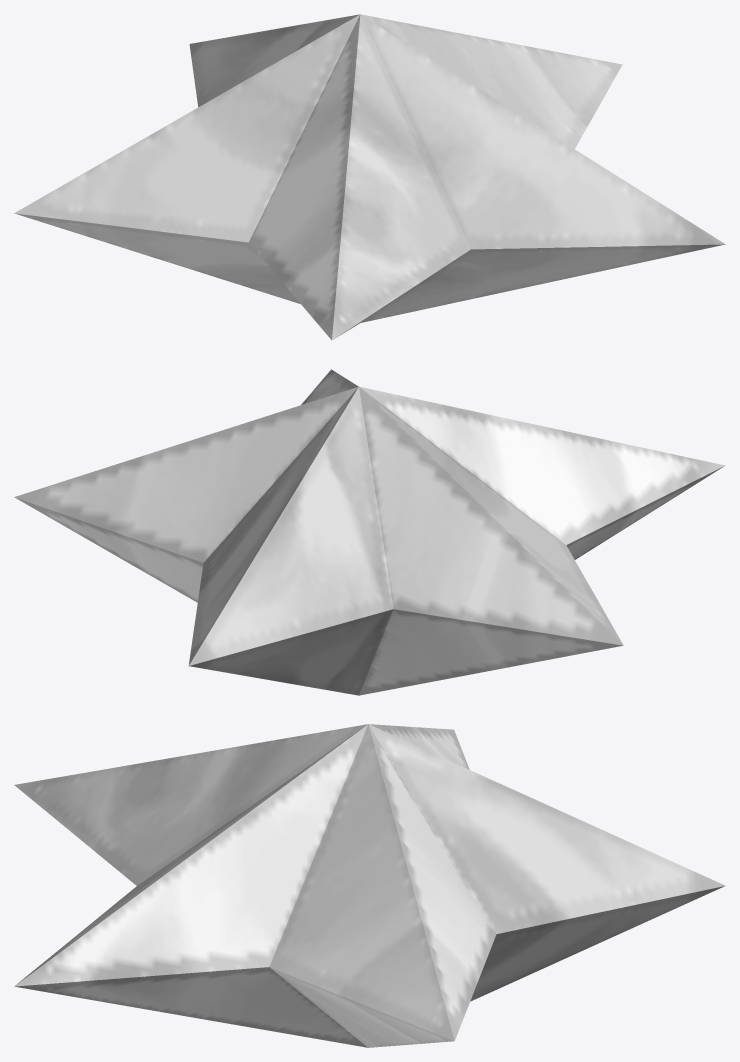
Rendered from Star present.dae.
The picture shows the model from 3 angles, top to bottom: view 1: azimuth 30°, elevation 25°; view 2: azimuth 150°, elevation 25°; view 3: azimuth 270°, elevation 25°; orthographic projection. The views are drawn at different scales.
Visible parts, largest first — view 1: Plane; view 2: Plane; view 3: Plane.
Part boxes in pixels (x1,y1,x2,y2): Plane: (14,14,725,340); Plane: (14,369,725,695); Plane: (14,724,725,1047).
Bounding box in the file's own units: 2 × 1.93 × 0.969.
1 material, 1 textured.
